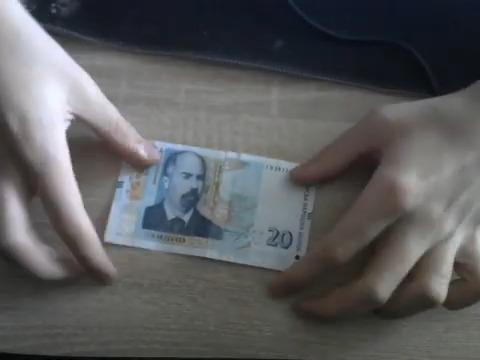20leva: (127, 143, 310, 269)
